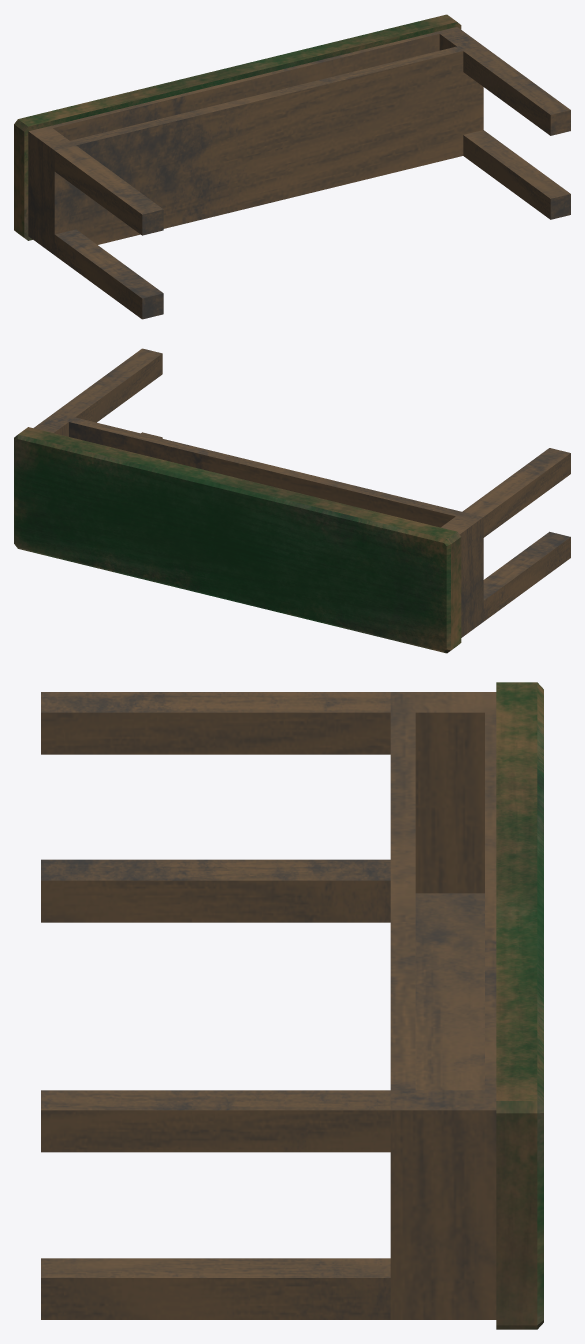
Rendered from 장애물_엎어진책상.fbx.
3 views of the same model, one above another, from view 1: azimuth 30°, elevation 25°; view 2: azimuth 150°, elevation 25°; view 3: azimuth 270°, elevation 25° (orthographic). The views are drawn at different scales.
Parts seen in each view (by area): view 1: 책상; view 2: 책상; view 3: 책상.
Boxes of the visible parts, <box> form: 책상: <box>14,14,570,319</box>; 책상: <box>14,348,570,653</box>; 책상: <box>41,682,543,1329</box>.
Size of the model in its own units: 200 by 50 by 99.68.
